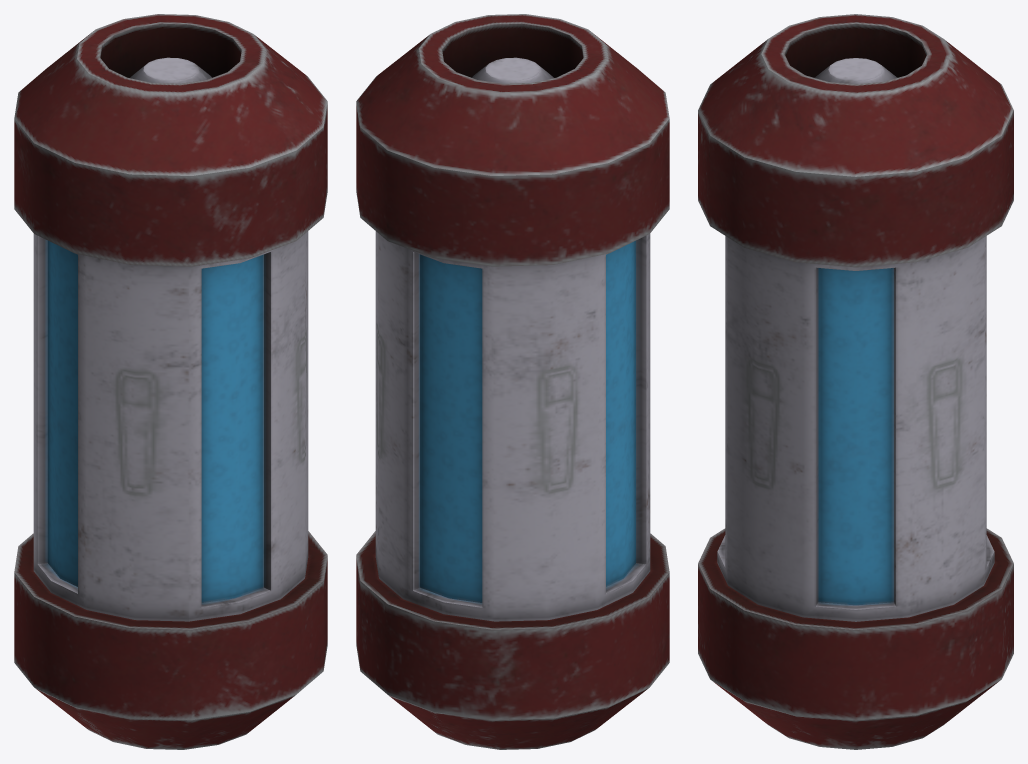
File: Power Core.fbx
The picture shows the model from 3 angles, left to right: view 1: azimuth 30°, elevation 25°; view 2: azimuth 150°, elevation 25°; view 3: azimuth 270°, elevation 25°; orthographic projection.
Parts seen in each view (by area): view 1: Power_Core; view 2: Power_Core; view 3: Power_Core.
Boxes of the visible parts, x1,y1,x2,y2 form: Power_Core: (14, 14, 327, 749); Power_Core: (356, 14, 669, 749); Power_Core: (698, 14, 1013, 749).
Size of the model in its own units: 7.84 by 17.96 by 7.84.
